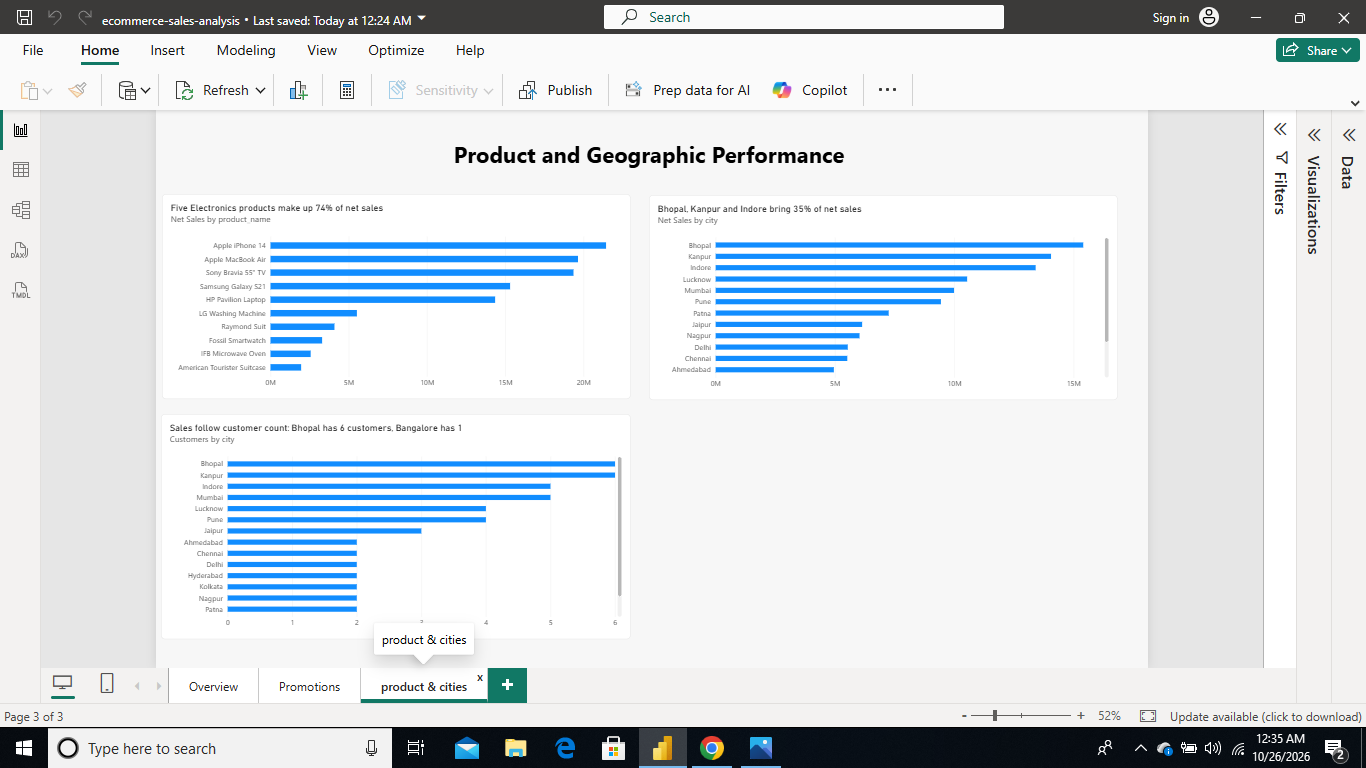

The dashboard page shown, as its layout file describes it:
{"tool":"powerbi","page":{"name":"product & cities","canvas":[1920,1080],"ordinal":2},"visuals":[{"type":"textbox","box":[10.7,55.8,1885.7,88],"z":0},{"type":"clusteredBarChart","title":"Five Electronics products make up 74% of net sales","fields":{"Category":["dim_products.product_name"],"Y":["_Measures.Net Sales"]},"box":[10.7,163,907.4,396.9],"z":1000},{"type":"clusteredBarChart","title":"Bhopal, Kanpur and Indore bring 35% of net sales","fields":{"Category":["dim_customers.city"],"Y":["_Measures.Net Sales"]},"box":[953.4,163.7,907,397],"z":1001},{"type":"clusteredBarChart","title":"Sales follow customer count: Bhopal has 6 customers, Bangalore has 1","fields":{"Category":["dim_customers.city"],"Y":["_Measures.Customers"]},"box":[9.9,588.2,908.8,436.2],"z":1002}]}

Visuals, with their boxes on the page's 1920x1080 design canvas (x1, y1, x2, y2). These are canvas units, not pixel positions in the 1366x768 screenshot, which may show the page scaled, cropped or inside an application window:
textbox: (left=11, top=56, right=1896, bottom=144)
"Five Electronics products make up 74% of net sales" clusteredBarChart: (left=11, top=163, right=918, bottom=560)
"Bhopal, Kanpur and Indore bring 35% of net sales" clusteredBarChart: (left=953, top=164, right=1860, bottom=561)
"Sales follow customer count: Bhopal has 6 customers, Bangalore has 1" clusteredBarChart: (left=10, top=588, right=919, bottom=1024)
